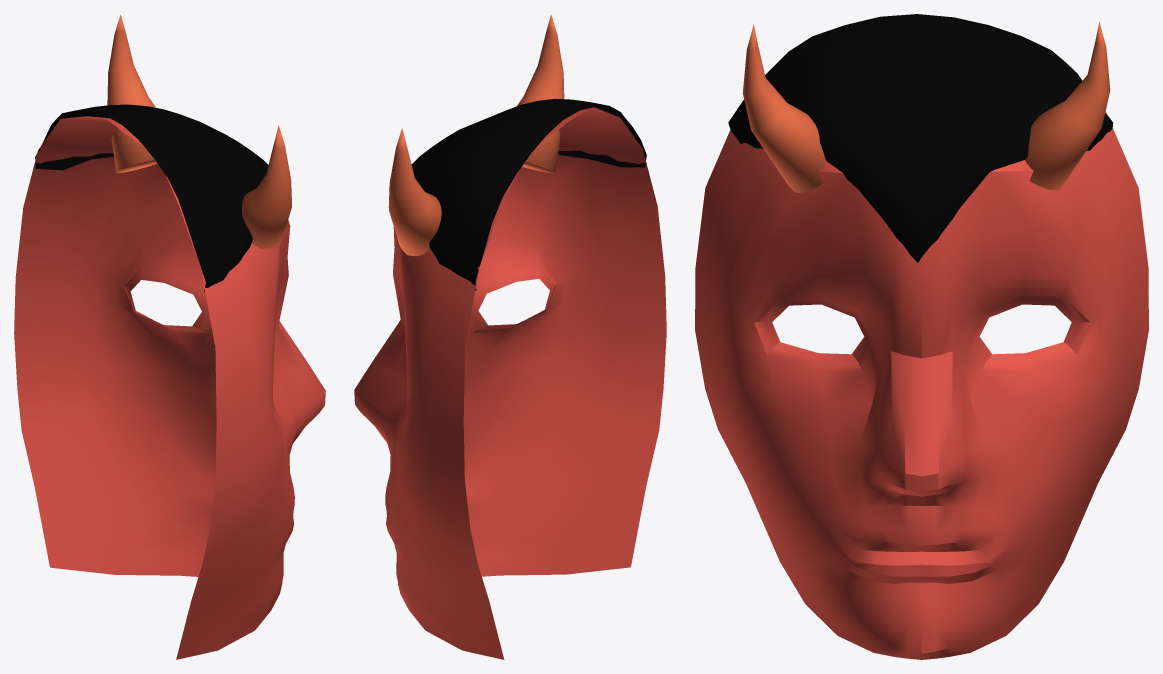
The model's file is Devil_Mask 1.fbx.
3 views of the same model, side by side, from view 1: azimuth 30°, elevation 25°; view 2: azimuth 150°, elevation 25°; view 3: azimuth 270°, elevation 25° (orthographic). The views are drawn at different scales.
Visible parts, largest first — view 1: Face.002, Hair.002, Horn, Horn.001; view 2: Face.002, Hair.002, Horn.001, Horn; view 3: Face.002, Hair.002, Horn.001, Horn.
Part boxes in pixels (x1,y1,x2,y2): Face.002: (14,116,325,659); Hair.002: (35,104,268,291); Horn: (242,125,291,249); Horn.001: (107,14,157,172); Face.002: (354,107,666,659); Hair.002: (411,98,646,290); Horn.001: (388,128,441,256); Horn: (517,14,564,173); Face.002: (695,112,1148,659); Hair.002: (728,14,1113,262); Horn.001: (1025,22,1110,190); Horn: (742,24,826,192).
Bounding box in the file's own units: 173 × 425 × 289.
